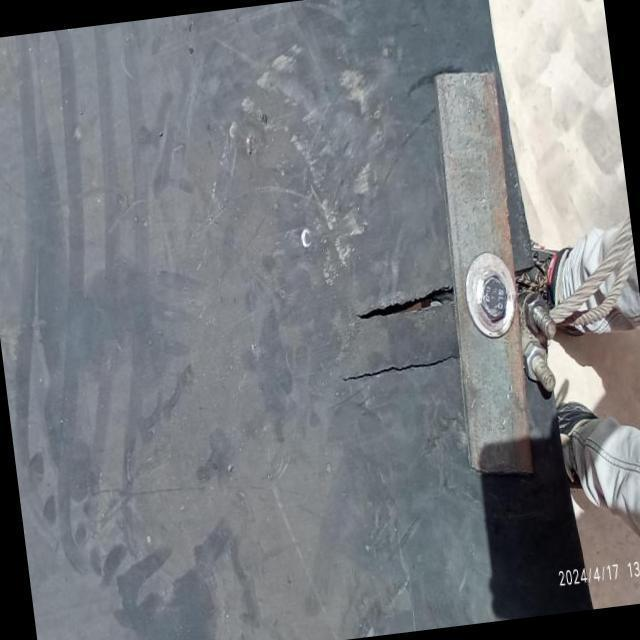Tear: (339, 352, 462, 388), (354, 284, 458, 322)
